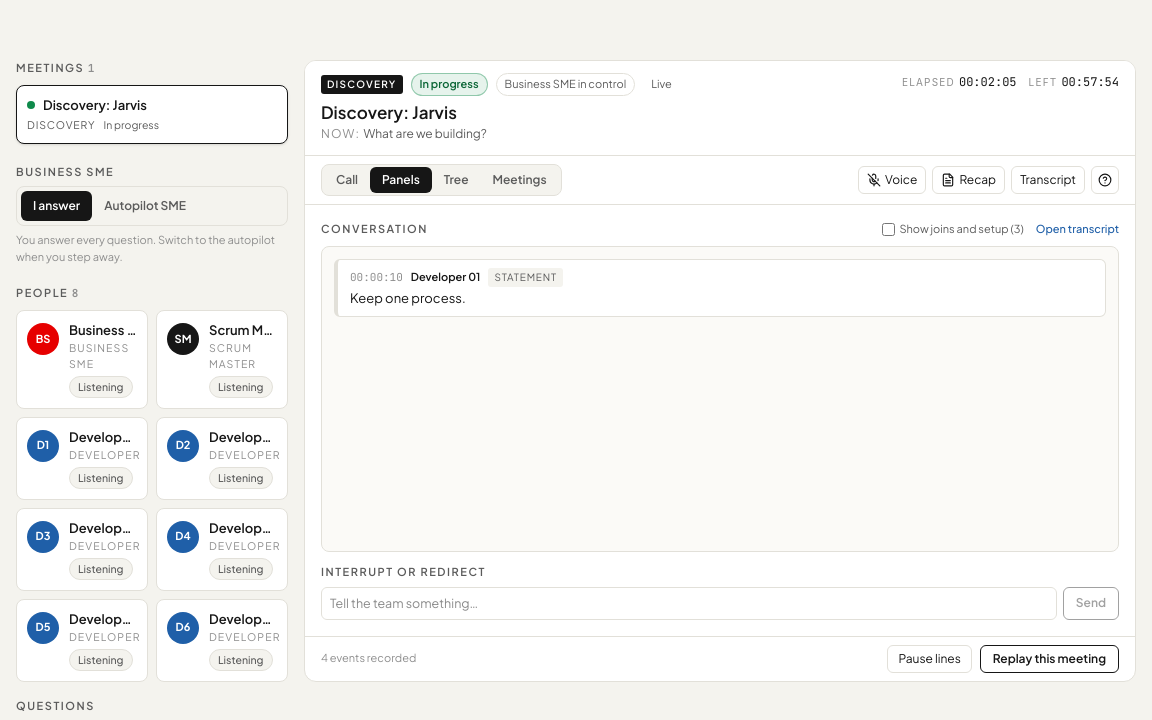
the conversation › keeps joins and setup out of the conversation unless asked for, and says how many there are
Check: the header with test id "meeting-header" is shown, box [305, 61, 1135, 156]
Click the checkbox labelled "Show joins and setup (3)".
click(889, 229)  # box [882, 223, 895, 236]
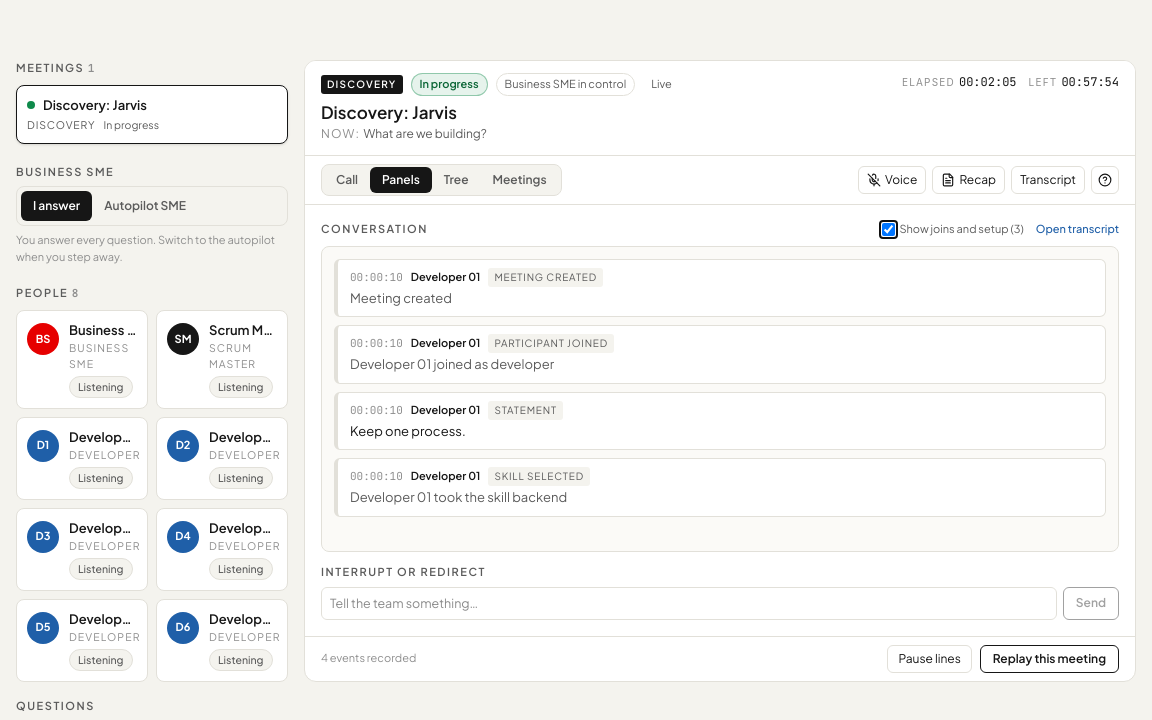
Check: the number of elements with test id "timeline-entry" is 4, box [334, 258, 1106, 317]; [334, 325, 1106, 384]; [334, 392, 1106, 450]; [334, 458, 1106, 516]
